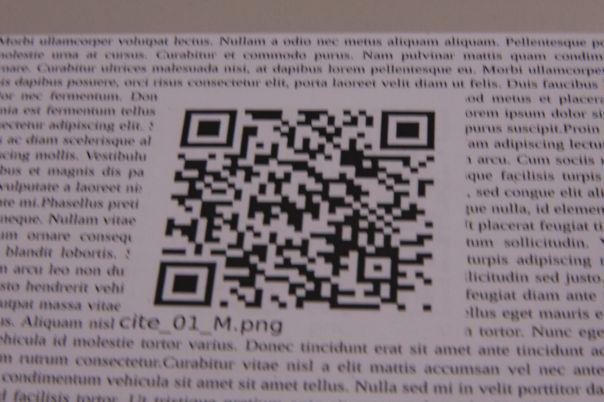Finder pattern: (148, 258, 221, 311), (379, 108, 439, 154), (177, 106, 240, 149)
